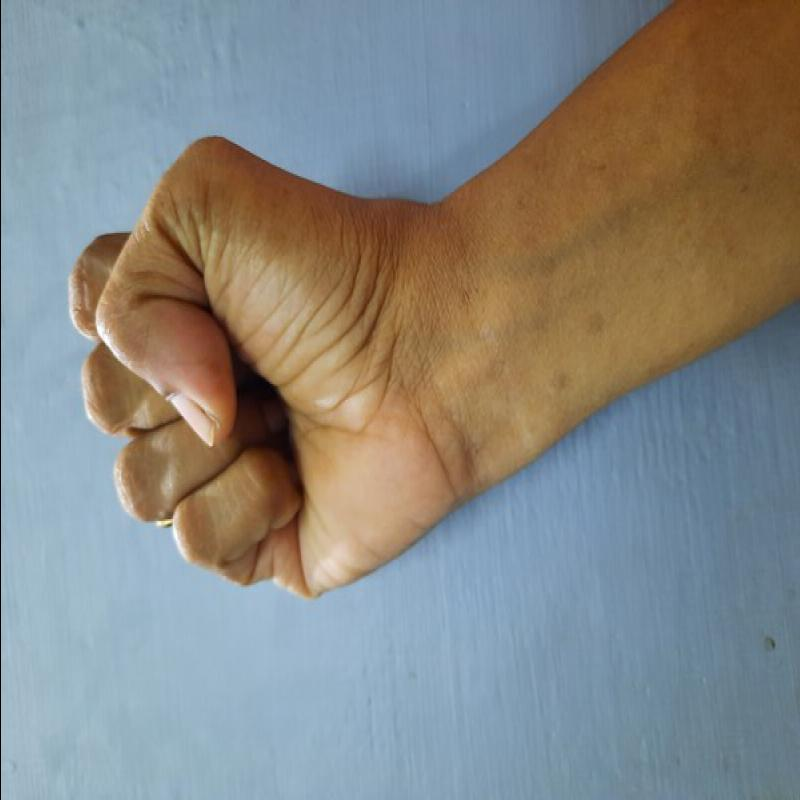Mushti: (42, 126, 463, 622)
